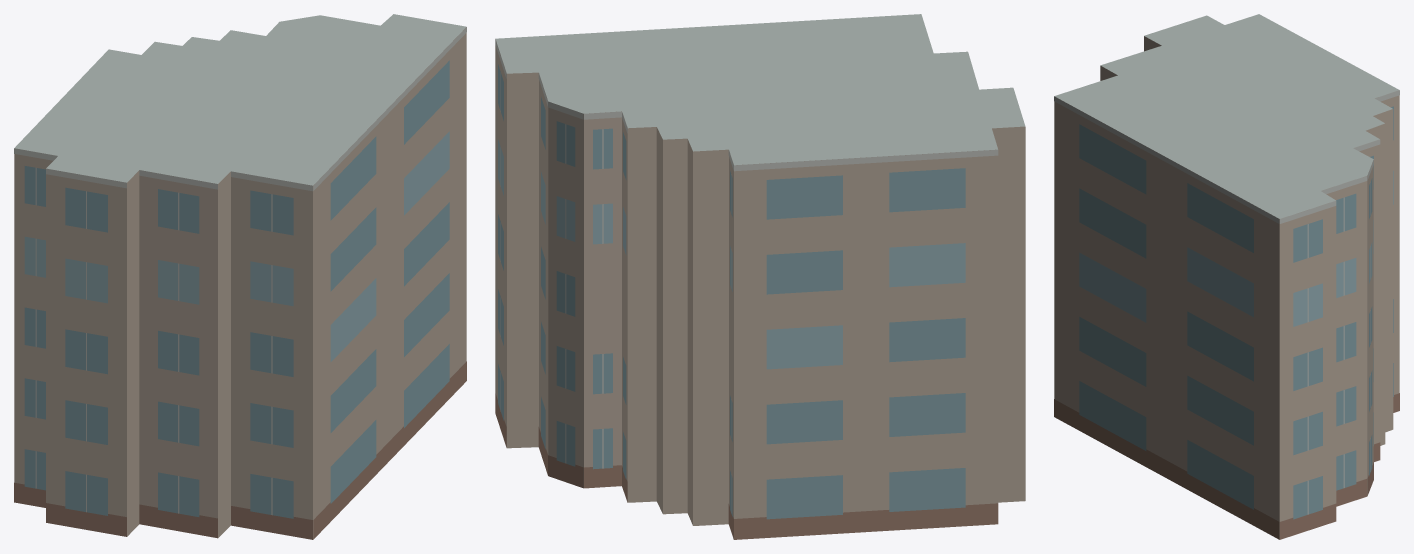
File: survey-upis-32911090.glb
3 views of the same model, side by side, from view 1: azimuth 30°, elevation 25°; view 2: azimuth 150°, elevation 25°; view 3: azimuth 270°, elevation 25° (orthographic). The views are drawn at different scales.
Visible parts, largest first — view 1: survey-upis-32911090.tmp; view 2: survey-upis-32911090.tmp; view 3: survey-upis-32911090.tmp.
Boxes of the visible parts, x1,y1,x2,y2 form: survey-upis-32911090.tmp: (14,14,466,539); survey-upis-32911090.tmp: (495,14,1025,539); survey-upis-32911090.tmp: (1054,14,1399,539).
Size of the model in its own units: 20.92 by 15.25 by 14.9.
